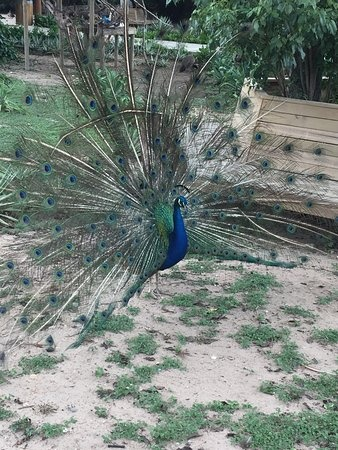pavoreal: (141, 176, 198, 290)
